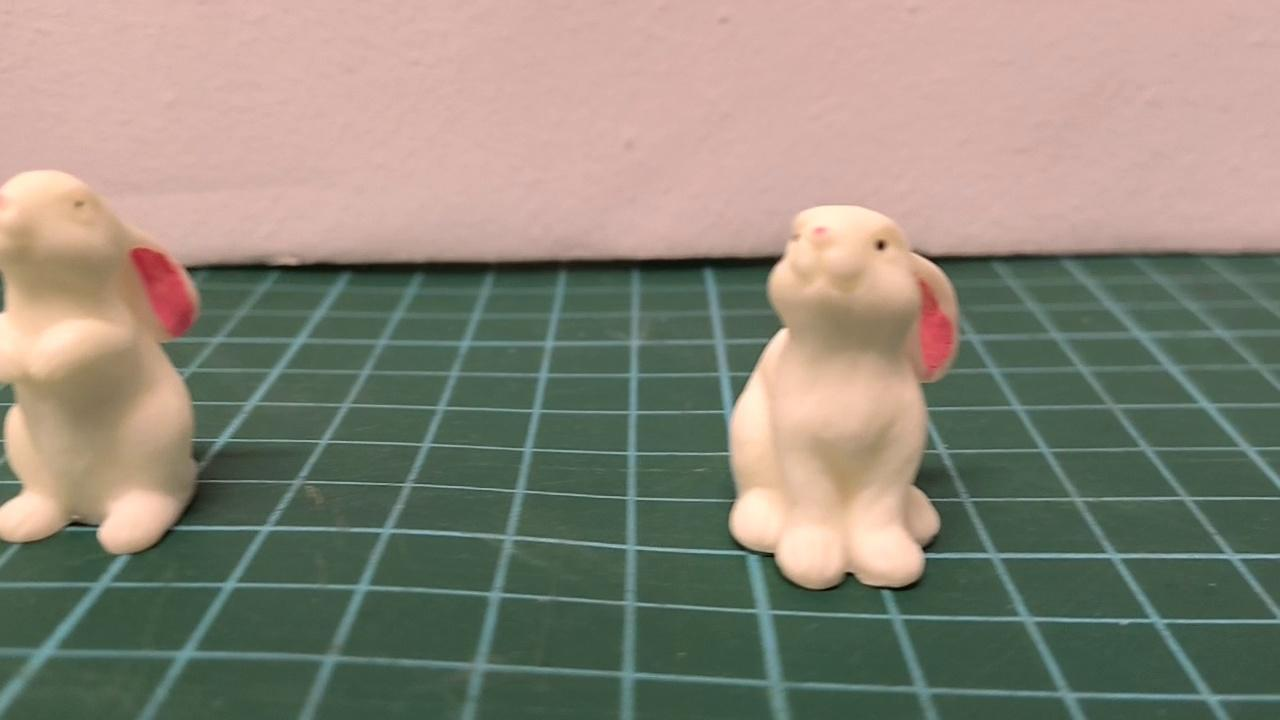pet: (725, 204, 961, 591), (0, 170, 204, 558)
